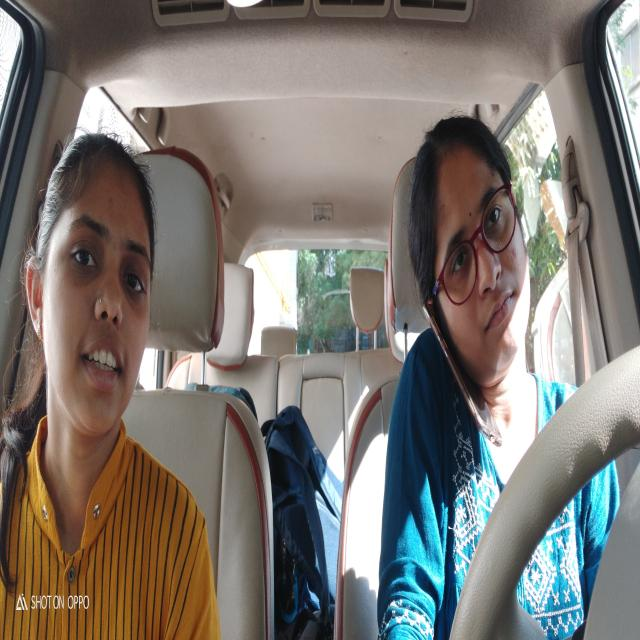mobile: (436, 325, 503, 456)
person: (27, 143, 161, 435), (412, 125, 533, 368)
